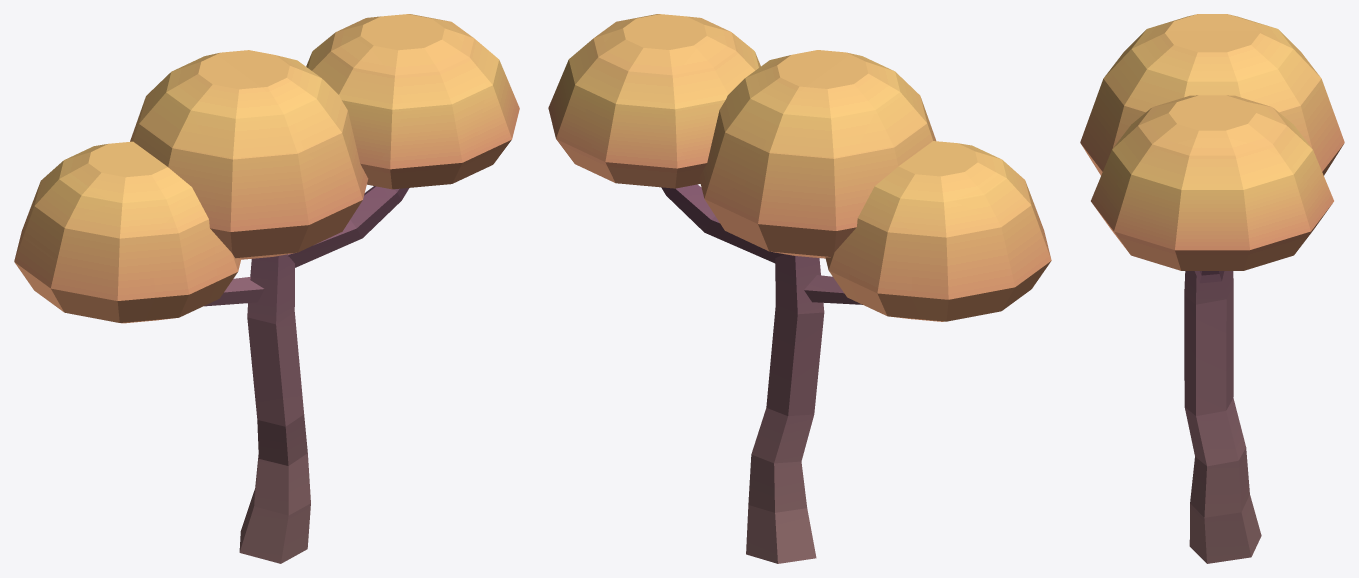
Rendered from smalltree002.obj.
3 renders of one model, left to right at view 1: azimuth 30°, elevation 25°; view 2: azimuth 150°, elevation 25°; view 3: azimuth 270°, elevation 25°, orthographic. The views are drawn at different scales.
Parts seen in each view (by area): view 1: small_tree.002; view 2: small_tree.002; view 3: small_tree.002.
Boxes of the visible parts, x1=… form: small_tree.002: x1=14, y1=14, x2=519, y2=563; small_tree.002: x1=548, y1=14, x2=1051, y2=563; small_tree.002: x1=1080, y1=14, x2=1344, y2=563.
Bounding box in the file's own units: 9.7 × 9.73 × 4.66.
Materials: 1 (1 with a texture image).
